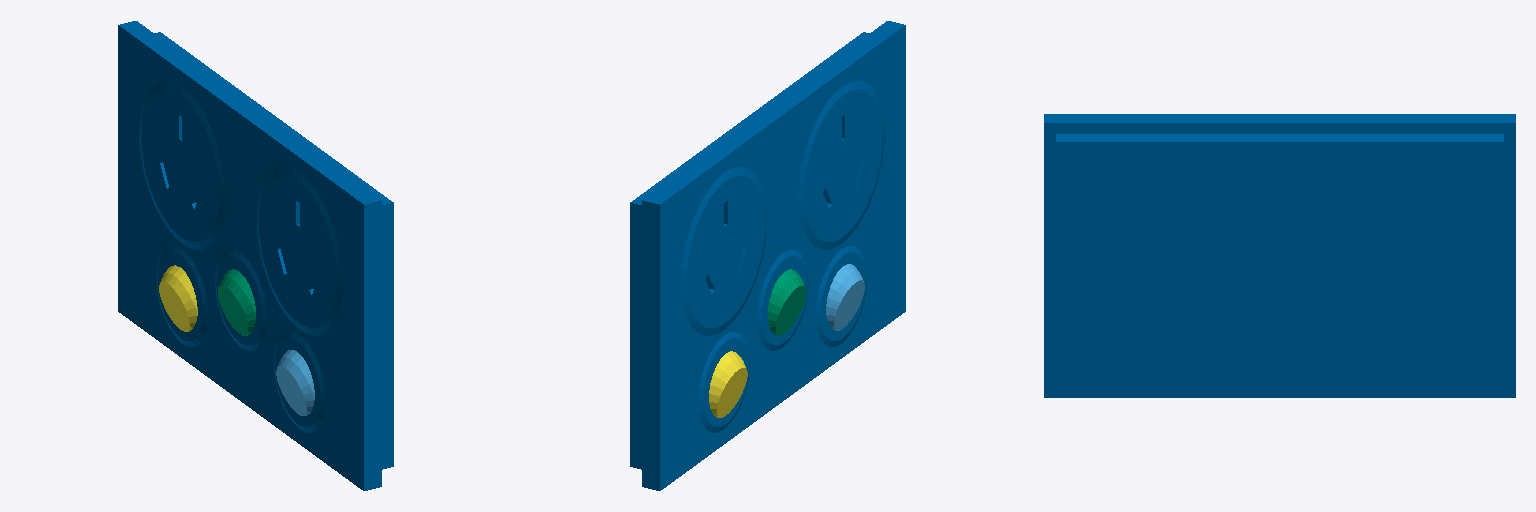
The robot description file, URDF, robot "partnet_58383391-eb8a-49d6-a5d0-ff57ca7ef093":
<?xml version="1.0" ?>
<robot name="partnet_58383391-eb8a-49d6-a5d0-ff57ca7ef093">
	<link name="base"/>
	<link name="link_0">
		<visual name="switch-1">
			<origin xyz="0 0.31976550000000004 -0.0734"/>
			<geometry>
				<mesh filename="textured_objs/original-3.obj"/>
			</geometry>
		</visual>
		<collision>
			<origin xyz="0 0.31976550000000004 -0.0734"/>
			<geometry>
				<mesh filename="textured_objs/original-3.obj"/>
			</geometry>
		</collision>
	</link>
	<joint name="joint_0" type="revolute">
		<origin xyz="0 -0.31976550000000004 0.0734"/>
		<axis xyz="-1 0 0"/>
		<child link="link_0"/>
		<parent link="link_3"/>
		<limit lower="-0.0" upper="0.5235987755982988"/>
	</joint>
	<link name="link_1">
		<visual name="switch-2">
			<origin xyz="0 0.176953 -0.0734"/>
			<geometry>
				<mesh filename="textured_objs/original-15.obj"/>
			</geometry>
		</visual>
		<collision>
			<origin xyz="0 0.176953 -0.0734"/>
			<geometry>
				<mesh filename="textured_objs/original-15.obj"/>
			</geometry>
		</collision>
	</link>
	<joint name="joint_1" type="revolute">
		<origin xyz="0 -0.176953 0.0734"/>
		<axis xyz="-1 0 0"/>
		<child link="link_1"/>
		<parent link="link_3"/>
		<limit lower="-0.0" upper="0.5235987755982988"/>
	</joint>
	<link name="link_2">
		<visual name="switch-3">
			<origin xyz="0 0.31976550000000004 -0.0734"/>
			<geometry>
				<mesh filename="textured_objs/original-5.obj"/>
			</geometry>
		</visual>
		<collision>
			<origin xyz="0 0.31976550000000004 -0.0734"/>
			<geometry>
				<mesh filename="textured_objs/original-5.obj"/>
			</geometry>
		</collision>
	</link>
	<joint name="joint_2" type="revolute">
		<origin xyz="0 -0.31976550000000004 0.0734"/>
		<axis xyz="-1 0 0"/>
		<child link="link_2"/>
		<parent link="link_3"/>
		<limit lower="-0.0" upper="0.5235987755982988"/>
	</joint>
	<link name="link_3">
		<visual name="base_body-4">
			<origin xyz="0 0 0"/>
			<geometry>
				<mesh filename="textured_objs/original-4.obj"/>
			</geometry>
		</visual>
		<visual name="base_body-4">
			<origin xyz="0 0 0"/>
			<geometry>
				<mesh filename="textured_objs/original-2.obj"/>
			</geometry>
		</visual>
		<visual name="base_body-4">
			<origin xyz="0 0 0"/>
			<geometry>
				<mesh filename="textured_objs/original-16.obj"/>
			</geometry>
		</visual>
		<visual name="base_body-4">
			<origin xyz="0 0 0"/>
			<geometry>
				<mesh filename="textured_objs/original-8.obj"/>
			</geometry>
		</visual>
		<visual name="base_body-4">
			<origin xyz="0 0 0"/>
			<geometry>
				<mesh filename="textured_objs/original-13.obj"/>
			</geometry>
		</visual>
		<visual name="base_body-4">
			<origin xyz="0 0 0"/>
			<geometry>
				<mesh filename="textured_objs/original-9.obj"/>
			</geometry>
		</visual>
		<visual name="base_body-4">
			<origin xyz="0 0 0"/>
			<geometry>
				<mesh filename="textured_objs/original-6.obj"/>
			</geometry>
		</visual>
		<visual name="base_body-4">
			<origin xyz="0 0 0"/>
			<geometry>
				<mesh filename="textured_objs/original-11.obj"/>
			</geometry>
		</visual>
		<visual name="base_body-4">
			<origin xyz="0 0 0"/>
			<geometry>
				<mesh filename="textured_objs/original-17.obj"/>
			</geometry>
		</visual>
		<visual name="base_body-4">
			<origin xyz="0 0 0"/>
			<geometry>
				<mesh filename="textured_objs/original-12.obj"/>
			</geometry>
		</visual>
		<visual name="base_body-4">
			<origin xyz="0 0 0"/>
			<geometry>
				<mesh filename="textured_objs/original-7.obj"/>
			</geometry>
		</visual>
		<visual name="base_body-4">
			<origin xyz="0 0 0"/>
			<geometry>
				<mesh filename="textured_objs/original-1.obj"/>
			</geometry>
		</visual>
		<visual name="base_body-4">
			<origin xyz="0 0 0"/>
			<geometry>
				<mesh filename="textured_objs/original-10.obj"/>
			</geometry>
		</visual>
		<visual name="base_body-4">
			<origin xyz="0 0 0"/>
			<geometry>
				<mesh filename="textured_objs/original-14.obj"/>
			</geometry>
		</visual>
		<collision>
			<origin xyz="0 0 0"/>
			<geometry>
				<mesh filename="textured_objs/original-4.obj"/>
			</geometry>
		</collision>
		<collision>
			<origin xyz="0 0 0"/>
			<geometry>
				<mesh filename="textured_objs/original-2.obj"/>
			</geometry>
		</collision>
		<collision>
			<origin xyz="0 0 0"/>
			<geometry>
				<mesh filename="textured_objs/original-16.obj"/>
			</geometry>
		</collision>
		<collision>
			<origin xyz="0 0 0"/>
			<geometry>
				<mesh filename="textured_objs/original-8.obj"/>
			</geometry>
		</collision>
		<collision>
			<origin xyz="0 0 0"/>
			<geometry>
				<mesh filename="textured_objs/original-13.obj"/>
			</geometry>
		</collision>
		<collision>
			<origin xyz="0 0 0"/>
			<geometry>
				<mesh filename="textured_objs/original-9.obj"/>
			</geometry>
		</collision>
		<collision>
			<origin xyz="0 0 0"/>
			<geometry>
				<mesh filename="textured_objs/original-6.obj"/>
			</geometry>
		</collision>
		<collision>
			<origin xyz="0 0 0"/>
			<geometry>
				<mesh filename="textured_objs/original-11.obj"/>
			</geometry>
		</collision>
		<collision>
			<origin xyz="0 0 0"/>
			<geometry>
				<mesh filename="textured_objs/original-17.obj"/>
			</geometry>
		</collision>
		<collision>
			<origin xyz="0 0 0"/>
			<geometry>
				<mesh filename="textured_objs/original-12.obj"/>
			</geometry>
		</collision>
		<collision>
			<origin xyz="0 0 0"/>
			<geometry>
				<mesh filename="textured_objs/original-7.obj"/>
			</geometry>
		</collision>
		<collision>
			<origin xyz="0 0 0"/>
			<geometry>
				<mesh filename="textured_objs/original-1.obj"/>
			</geometry>
		</collision>
		<collision>
			<origin xyz="0 0 0"/>
			<geometry>
				<mesh filename="textured_objs/original-10.obj"/>
			</geometry>
		</collision>
		<collision>
			<origin xyz="0 0 0"/>
			<geometry>
				<mesh filename="textured_objs/original-14.obj"/>
			</geometry>
		</collision>
	</link>
	<joint name="joint_3" type="fixed">
		<origin rpy="1.570796326794897 0 -1.570796326794897" xyz="0 0 0"/>
		<child link="link_3"/>
		<parent link="base"/>
	</joint>
</robot>

--- Render facts (derived) ---
3 views of the same robot in one strip: view 1: azimuth 30°, elevation 25°; view 2: azimuth 150°, elevation 25°; view 3: azimuth 270°, elevation 25° (orthographic).
Robot: partnet_58383391-eb8a-49d6-a5d0-ff57ca7ef093 — 5 links, 4 joints (3 revolute, 1 fixed); root link base; default pose: every joint at zero.
Visible links, largest first — view 1: link_3, link_2, link_0, link_1; view 2: link_3, link_0, link_2, link_1; view 3: link_3.
Boxes of the visible links, x1,y1,x2,y2 form: link_3: [118, 21, 393, 490]; link_2: [159, 265, 197, 331]; link_0: [276, 350, 314, 415]; link_1: [218, 269, 255, 335]; link_3: [630, 21, 905, 490]; link_0: [826, 264, 864, 330]; link_2: [709, 351, 747, 417]; link_1: [768, 269, 805, 335]; link_3: [1044, 114, 1515, 397].
Bounding box of the posed robot: 0.2002 × 1.69 × 1.09 m (x, y, z).
Meshes: 17 distinct files referenced, 17 mesh visuals loaded (17 OBJ).